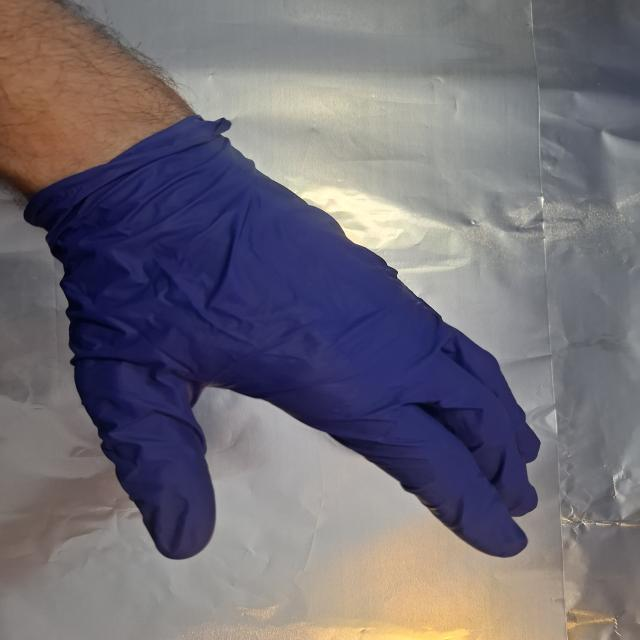glove_on: (38, 115, 544, 561)
